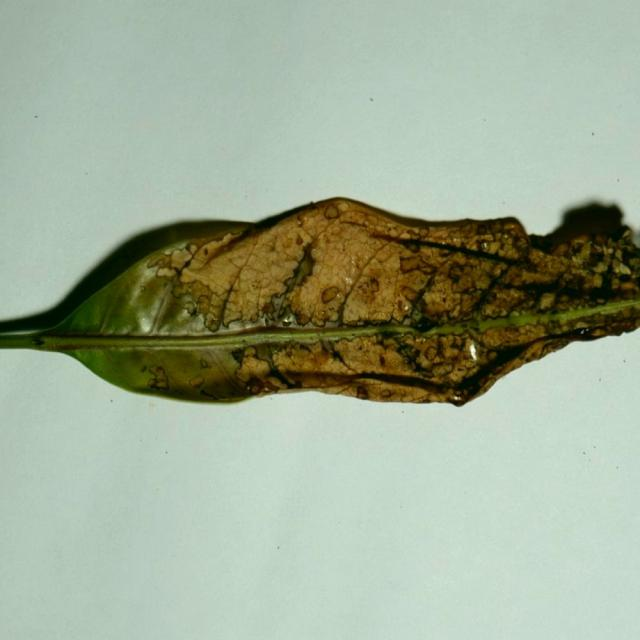Anthracnose: (449, 324, 623, 386), (136, 265, 213, 382), (5, 332, 302, 355), (66, 322, 340, 343), (15, 278, 101, 342), (203, 232, 258, 327), (502, 297, 636, 330), (327, 335, 427, 378), (303, 368, 458, 395), (403, 332, 487, 380), (400, 250, 454, 324), (569, 238, 634, 296), (175, 227, 249, 274), (292, 260, 348, 321), (330, 276, 394, 328), (234, 343, 301, 392), (272, 251, 314, 322), (459, 265, 507, 325), (100, 345, 156, 396), (515, 245, 569, 297), (478, 276, 540, 319), (461, 226, 530, 263), (170, 277, 220, 328), (216, 309, 311, 334), (423, 273, 472, 317), (206, 353, 256, 396), (477, 324, 539, 350), (152, 244, 196, 275), (148, 284, 175, 331), (367, 230, 425, 249), (275, 229, 308, 257), (268, 291, 296, 319), (329, 343, 352, 371), (295, 207, 320, 228), (572, 241, 594, 263), (582, 272, 605, 292), (399, 254, 424, 271), (620, 246, 639, 268), (462, 337, 481, 359), (146, 252, 170, 269), (611, 225, 633, 243), (565, 233, 593, 247), (375, 246, 398, 263), (500, 220, 523, 235), (155, 265, 178, 278), (586, 251, 604, 267), (448, 264, 465, 280), (612, 247, 625, 263), (30, 336, 46, 346), (572, 251, 584, 264), (228, 229, 243, 238)
Mango: (0, 197, 639, 409)
